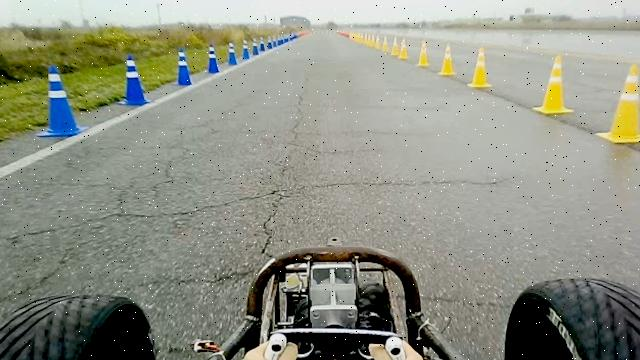blue cone: (36, 64, 88, 138), (116, 54, 151, 105), (172, 47, 193, 86), (207, 43, 220, 74), (226, 42, 238, 66), (242, 39, 250, 60), (251, 37, 259, 56), (258, 36, 266, 52), (267, 36, 272, 50)
yellow cone: (595, 63, 640, 144), (532, 55, 574, 114), (467, 46, 492, 88), (438, 44, 456, 76), (416, 40, 429, 67), (398, 38, 409, 60), (390, 36, 399, 56), (374, 34, 382, 50), (382, 35, 389, 53), (368, 34, 374, 48)
